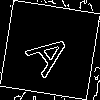A: (25, 25, 82, 79)
